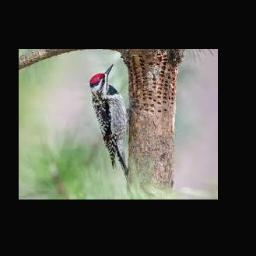Woodpecker: (90, 63, 130, 178)
